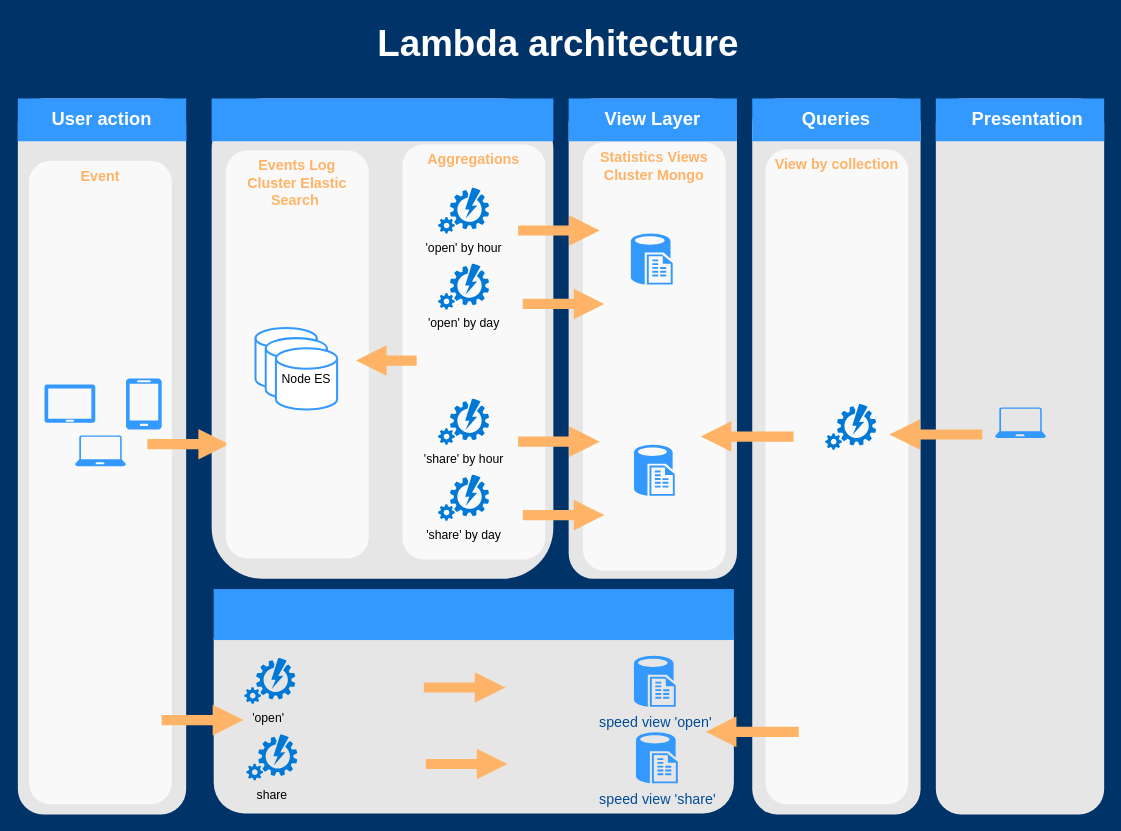
This 1121x831 diagram has some shape labels left out. The centre of each missing label's shape, as x and y in pixels:
"Batch Layer" belongs at (382,119).
"Library Front" belongs at (99,450).
"query" belongs at (850,426).
"Speed Layer" belongs at (473,614).
"view 'open'" belongs at (651,258).
"view 'share'" belongs at (653,469).
"Web Dashboards" belongs at (1020,422).
